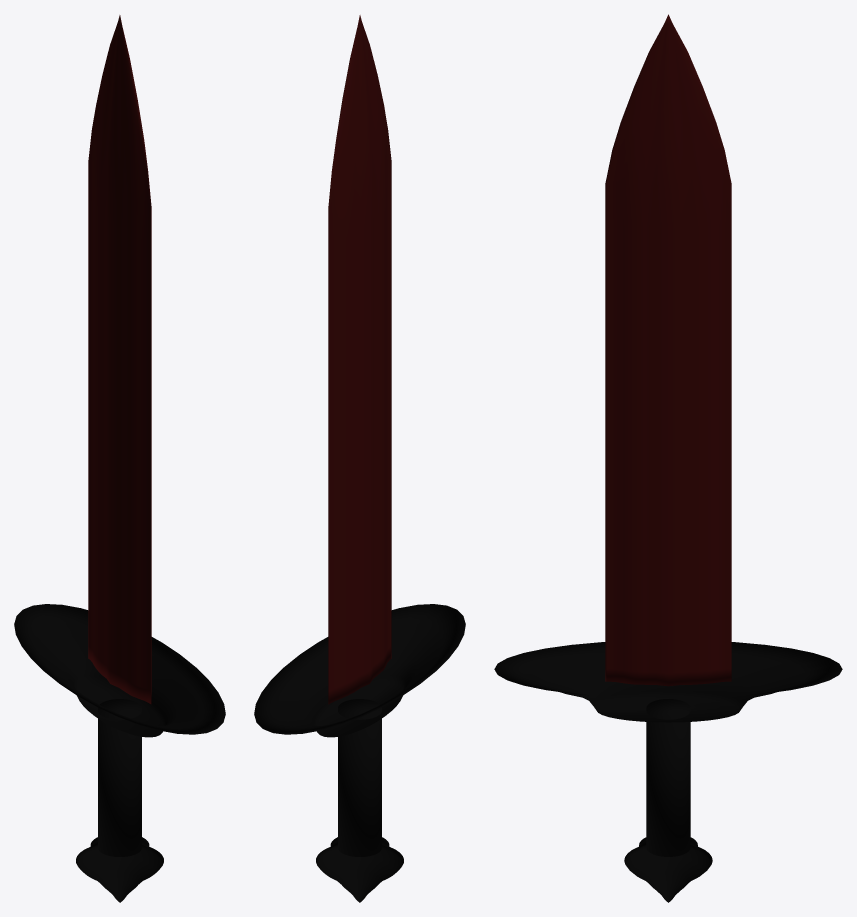
Rendered from daggers1.fbx.
The picture shows the model from 3 angles, left to right: view 1: azimuth 30°, elevation 25°; view 2: azimuth 150°, elevation 25°; view 3: azimuth 270°, elevation 25°; orthographic projection.
Visible parts, largest first — view 1: Circle.001; view 2: Circle.001; view 3: Circle.001.
Part boxes in pixels (x1,y1,x2,y2): Circle.001: (14, 15, 225, 902); Circle.001: (254, 15, 465, 902); Circle.001: (494, 14, 842, 902).
Bounding box in the file's own units: 134 × 941 × 334.
